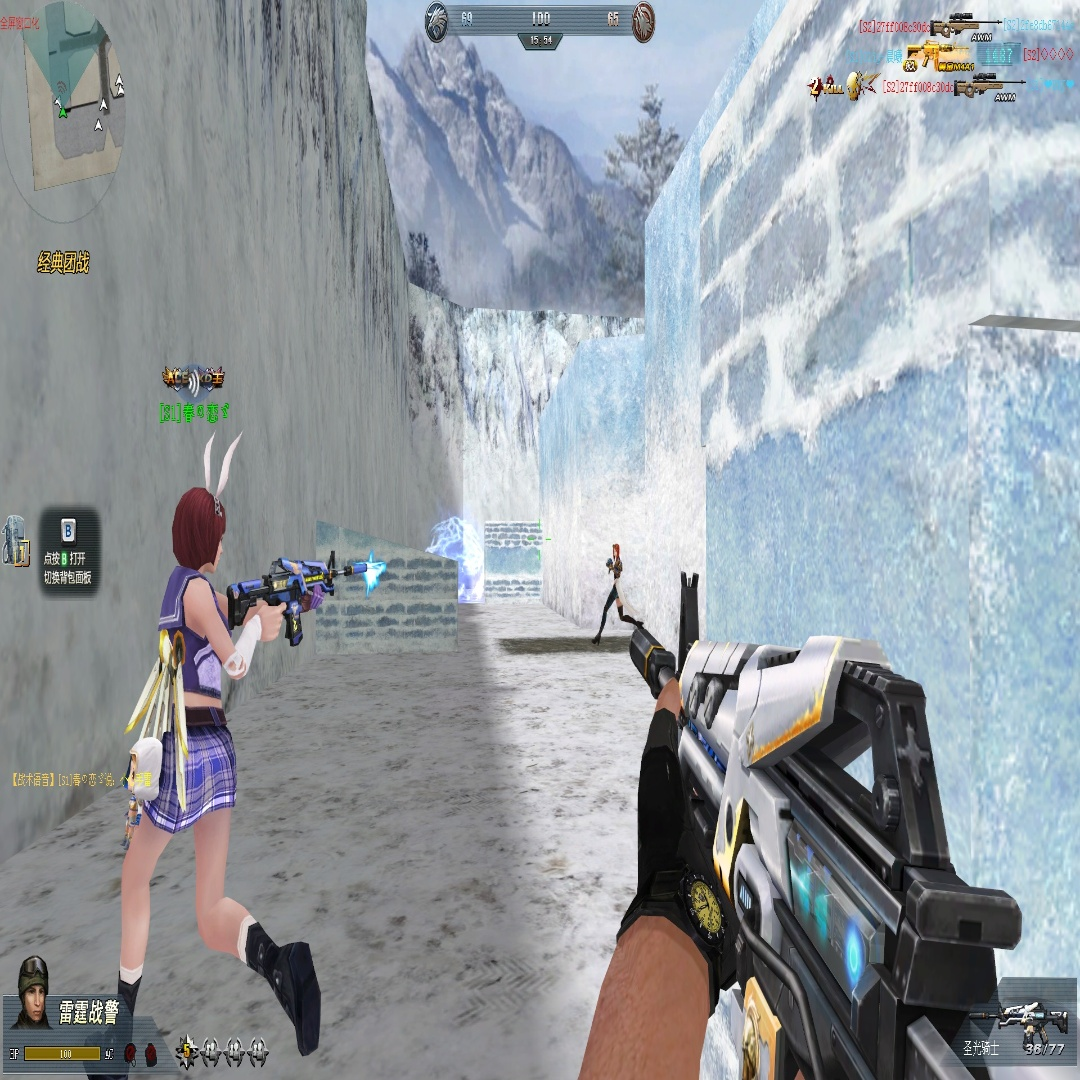t: (593, 542, 626, 643)
